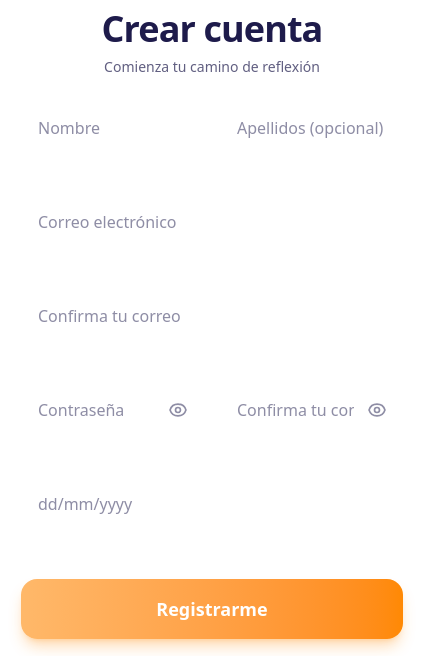
Test: RegisterPage › validates required fields when submitting an empty form
Click the button "Registrarme".
click(212, 609)  # box [21,579,403,639]
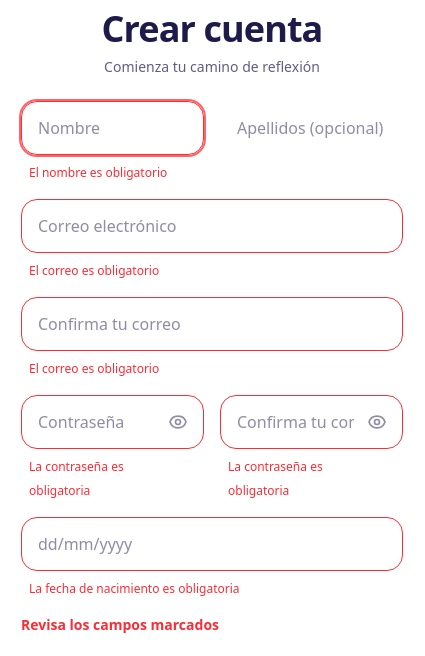
Now the text "El nombre es obligatorio" is shown, box [29,164,167,181]
Now the 1st text "El correo es obligatorio" is shown, box [29,262,159,279]
Now the 1st text "La contraseña es obligatoria" is shown, box [29,458,124,499]
